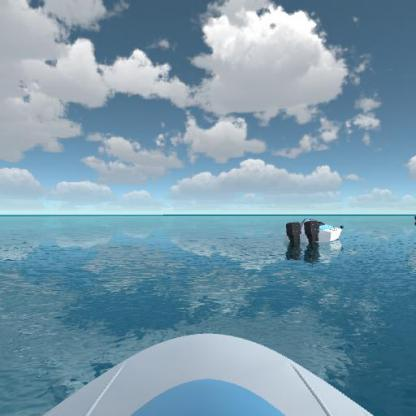usv1: (279, 208, 352, 251)
